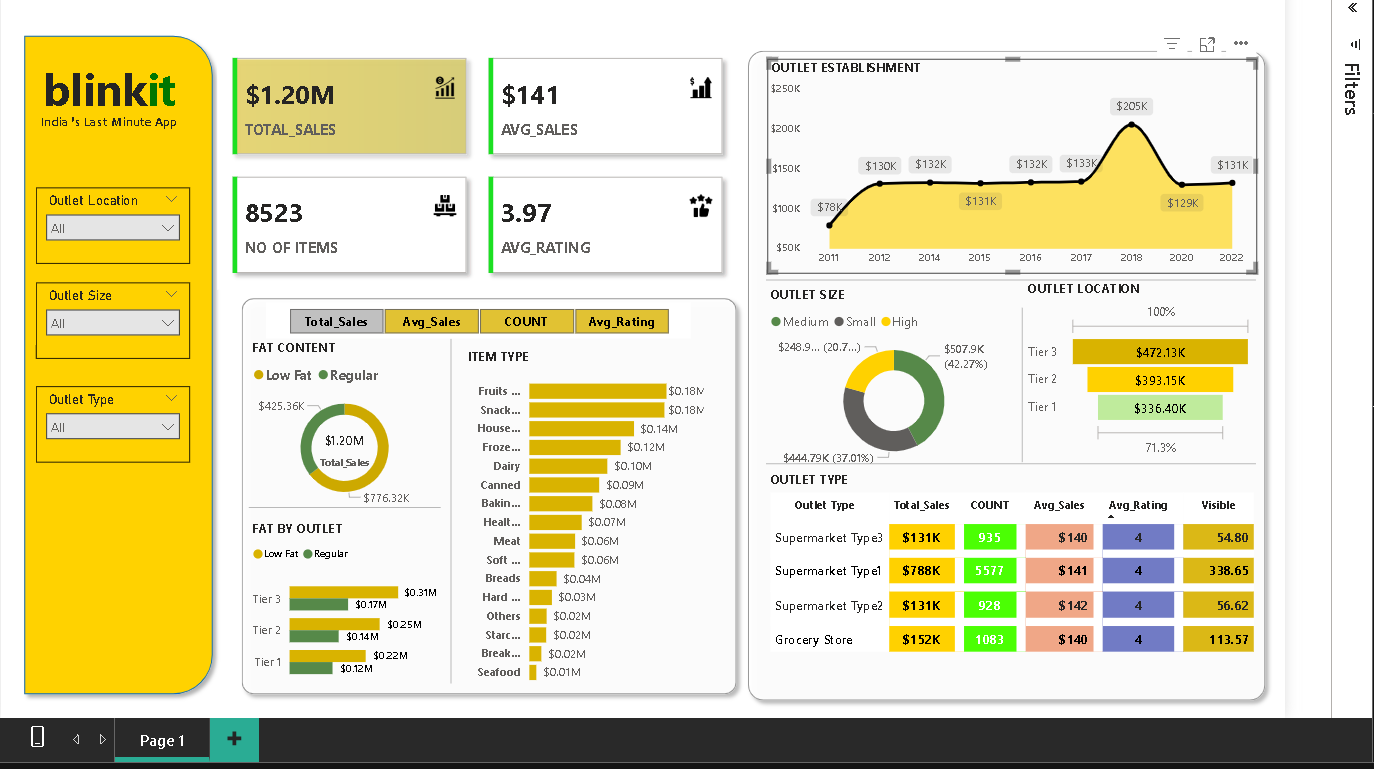

The page's visual inventory and layout, read from the dashboard file:
{"tool":"powerbi","page":{"name":"Page 1","canvas":[1400,800],"ordinal":0},"visuals":[{"type":"shape","box":[16.4,46.4,223.6,736.2],"z":0},{"type":"textbox","box":[40.5,75,165.1,78],"z":1000},{"type":"textbox","box":[38.6,135,178,32.6],"z":2000},{"type":"cardVisual","fields":{"Data":["Table1.Total_Sales","Table1.Avg_Sales","Table1.COUNT","Table1.Avg_Rating"]},"box":[235.9,62.7,569.9,269.9],"z":3000},{"type":"shape","box":[253.6,332.7,557.6,449.9],"z":4000},{"type":"donutChart","title":"FAT CONTENT","fields":{"Y":["Table1.Total_Sales"],"Category":["Table1.Item Fat Content"]},"box":[269.9,385.8,210,188.1],"z":5000},{"type":"slicer","fields":{"Values":["Metrics.Metrics"]},"box":[289,346.3,463.5,39.5],"z":6000},{"type":"cardVisual","fields":{"Data":["Table1.Total_Sales"]},"box":[323.1,470.4,103.6,70.9],"z":7000},{"type":"clusteredBarChart","title":"FAT BY OUTLET","fields":{"Y":["Table1.Total_Sales"],"Category":["Table1.Outlet Location Type"],"Series":["Table1.Item Fat Content"]},"box":[269.9,583.5,210,188.1],"z":8000},{"type":"shape","box":[269.9,565.8,210,8.2],"z":9000},{"type":"shape","box":[402.2,385.8,177.2,376.3],"z":10000},{"type":"barChart","title":"ITEM TYPE","fields":{"Y":["Table1.Total_Sales"],"Category":["Table1.Item Type"]},"box":[504.4,395.4,267.2,376.3],"z":11000},{"type":"shape","box":[805.7,62.7,582.1,726.7],"z":12000},{"type":"lineChart","title":"OUTLET ESTABLISHMENT","fields":{"Category":["Table1.Outlet Establishment Year"],"Y":["Table1.Total_Sales"]},"box":[835.7,80.4,534.4,234.5],"z":13000},{"type":"shape","box":[834.4,314.9,534.4,13.6],"z":14000},{"type":"donutChart","title":"OUTLET SIZE","fields":{"Category":["Table1.Outlet Size"],"Y":["Sum(Table1.Sales)"]},"box":[834.4,328.6,279.5,201.8],"z":15000},{"type":"shape","box":[948.9,351.7,329.9,169.1],"z":16000},{"type":"funnel","title":"OUTLET LOCATION","fields":{"Category":["Table1.Outlet Location Type"],"Y":["Table1.Total_Sales"]},"box":[1115.2,321.7,254.9,199],"z":17000},{"type":"shape","box":[834.4,429.5,534.4,185.4],"z":18000},{"type":"pivotTable","title":"OUTLET TYPE","fields":{"Rows":["Table1.Outlet Type"],"Values":["Table1.Total_Sales","Table1.COUNT","Table1.Avg_Sales","Table1.Avg_Rating","Table1.Measure"]},"box":[834.4,530.3,559,204.5],"z":19000},{"type":"slicer","fields":{"Values":["Table1.Outlet Location Type"]},"box":[38.2,220.9,167.7,83.2],"z":21000},{"type":"slicer","fields":{"Values":["Table1.Outlet Size"]},"box":[38.2,324.5,167.7,83.2],"z":22000},{"type":"slicer","fields":{"Values":["Table1.Outlet Type"]},"box":[38.2,437.6,167.7,83.2],"z":23000}]}

Visuals, with their boxes on the page's 1400x800 design canvas (x1, y1, x2, y2). These are canvas units, not pixel positions in the 1374x769 screenshot, which may show the page scaled, cropped or inside an application window:
shape: {"left": 16, "top": 46, "right": 240, "bottom": 783}
textbox: {"left": 40, "top": 75, "right": 206, "bottom": 153}
textbox: {"left": 39, "top": 135, "right": 217, "bottom": 168}
cardVisual - Table1.Total_Sales x Table1.Avg_Sales: {"left": 236, "top": 63, "right": 806, "bottom": 333}
shape: {"left": 254, "top": 333, "right": 811, "bottom": 783}
"FAT CONTENT" donutChart: {"left": 270, "top": 386, "right": 480, "bottom": 574}
slicer - Metrics.Metrics: {"left": 289, "top": 346, "right": 752, "bottom": 386}
cardVisual - Table1.Total_Sales: {"left": 323, "top": 470, "right": 427, "bottom": 541}
"FAT BY OUTLET" clusteredBarChart: {"left": 270, "top": 584, "right": 480, "bottom": 772}
shape: {"left": 270, "top": 566, "right": 480, "bottom": 574}
shape: {"left": 402, "top": 386, "right": 579, "bottom": 762}
"ITEM TYPE" barChart: {"left": 504, "top": 395, "right": 772, "bottom": 772}
shape: {"left": 806, "top": 63, "right": 1388, "bottom": 789}
"OUTLET ESTABLISHMENT" lineChart: {"left": 836, "top": 80, "right": 1370, "bottom": 315}
shape: {"left": 834, "top": 315, "right": 1369, "bottom": 328}
"OUTLET SIZE" donutChart: {"left": 834, "top": 329, "right": 1114, "bottom": 530}
shape: {"left": 949, "top": 352, "right": 1279, "bottom": 521}
"OUTLET LOCATION" funnel: {"left": 1115, "top": 322, "right": 1370, "bottom": 521}
shape: {"left": 834, "top": 430, "right": 1369, "bottom": 615}
"OUTLET TYPE" pivotTable: {"left": 834, "top": 530, "right": 1393, "bottom": 735}
slicer - Table1.Outlet Location Type: {"left": 38, "top": 221, "right": 206, "bottom": 304}
slicer - Table1.Outlet Size: {"left": 38, "top": 324, "right": 206, "bottom": 408}
slicer - Table1.Outlet Type: {"left": 38, "top": 438, "right": 206, "bottom": 521}
